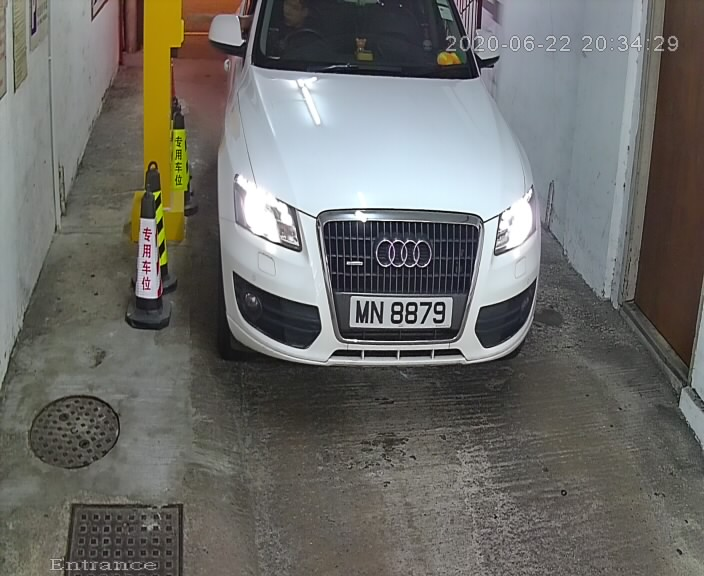privatecar: (192, 2, 562, 389)
